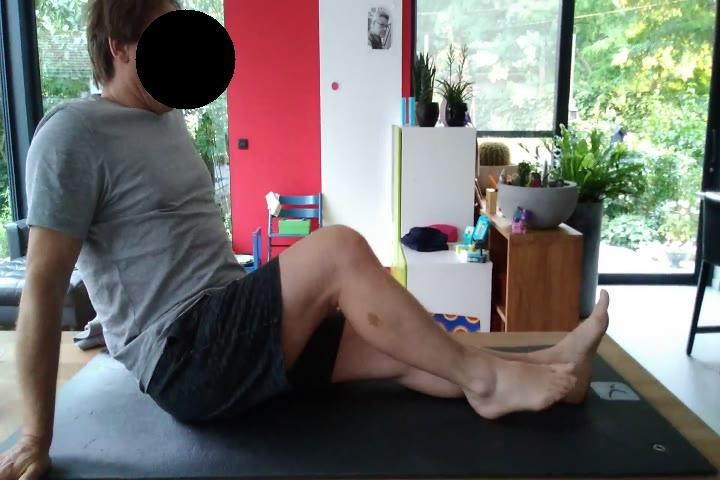lower_body: (148, 221, 612, 424)
